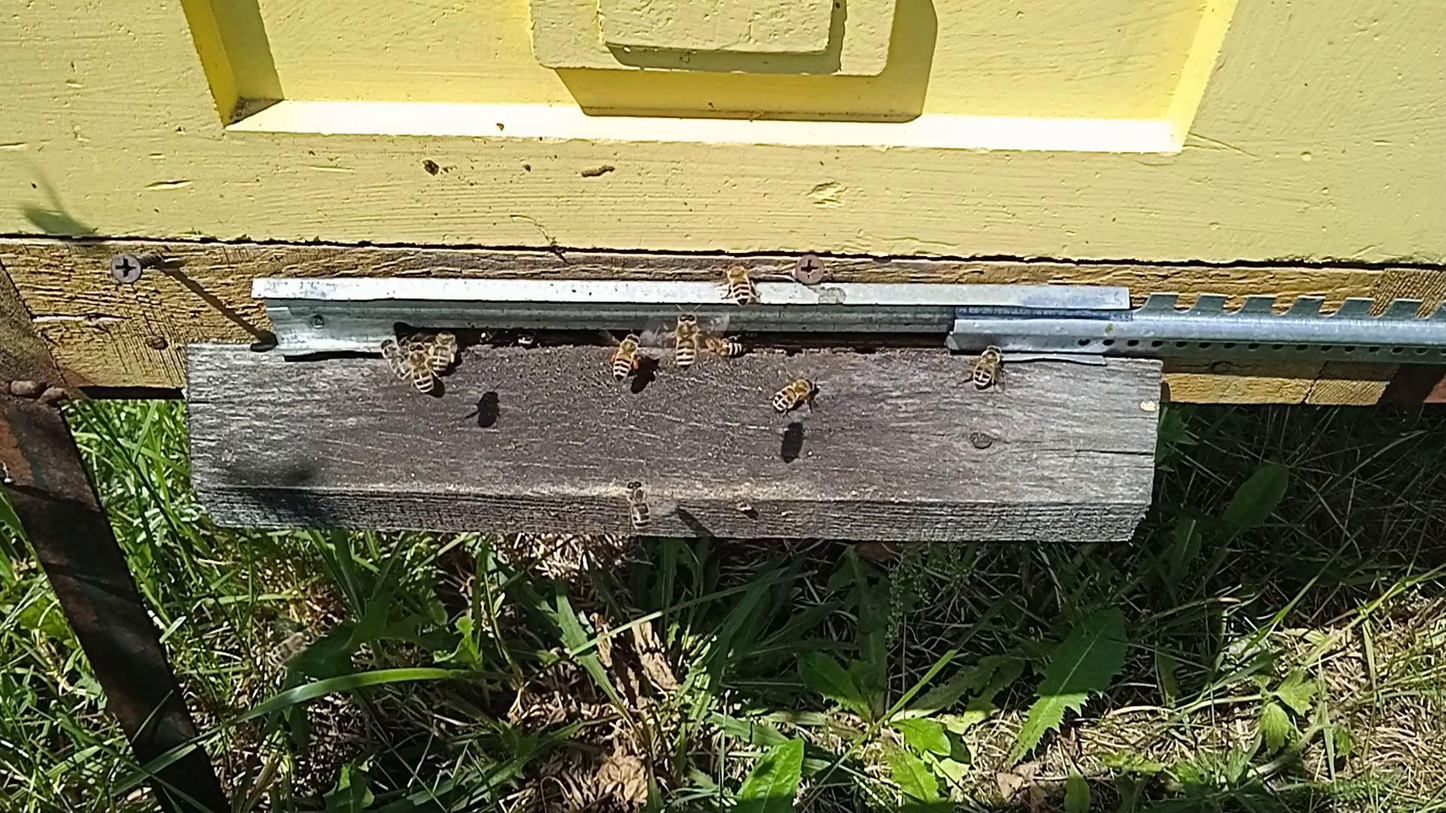worker-bee: (770, 375, 819, 414), (670, 311, 700, 373), (403, 342, 438, 395), (720, 258, 757, 307), (267, 629, 317, 665), (611, 332, 645, 382), (623, 479, 652, 534), (972, 344, 1005, 391), (430, 329, 461, 373), (380, 336, 407, 380), (702, 335, 747, 358), (512, 329, 540, 349), (474, 327, 502, 345)
